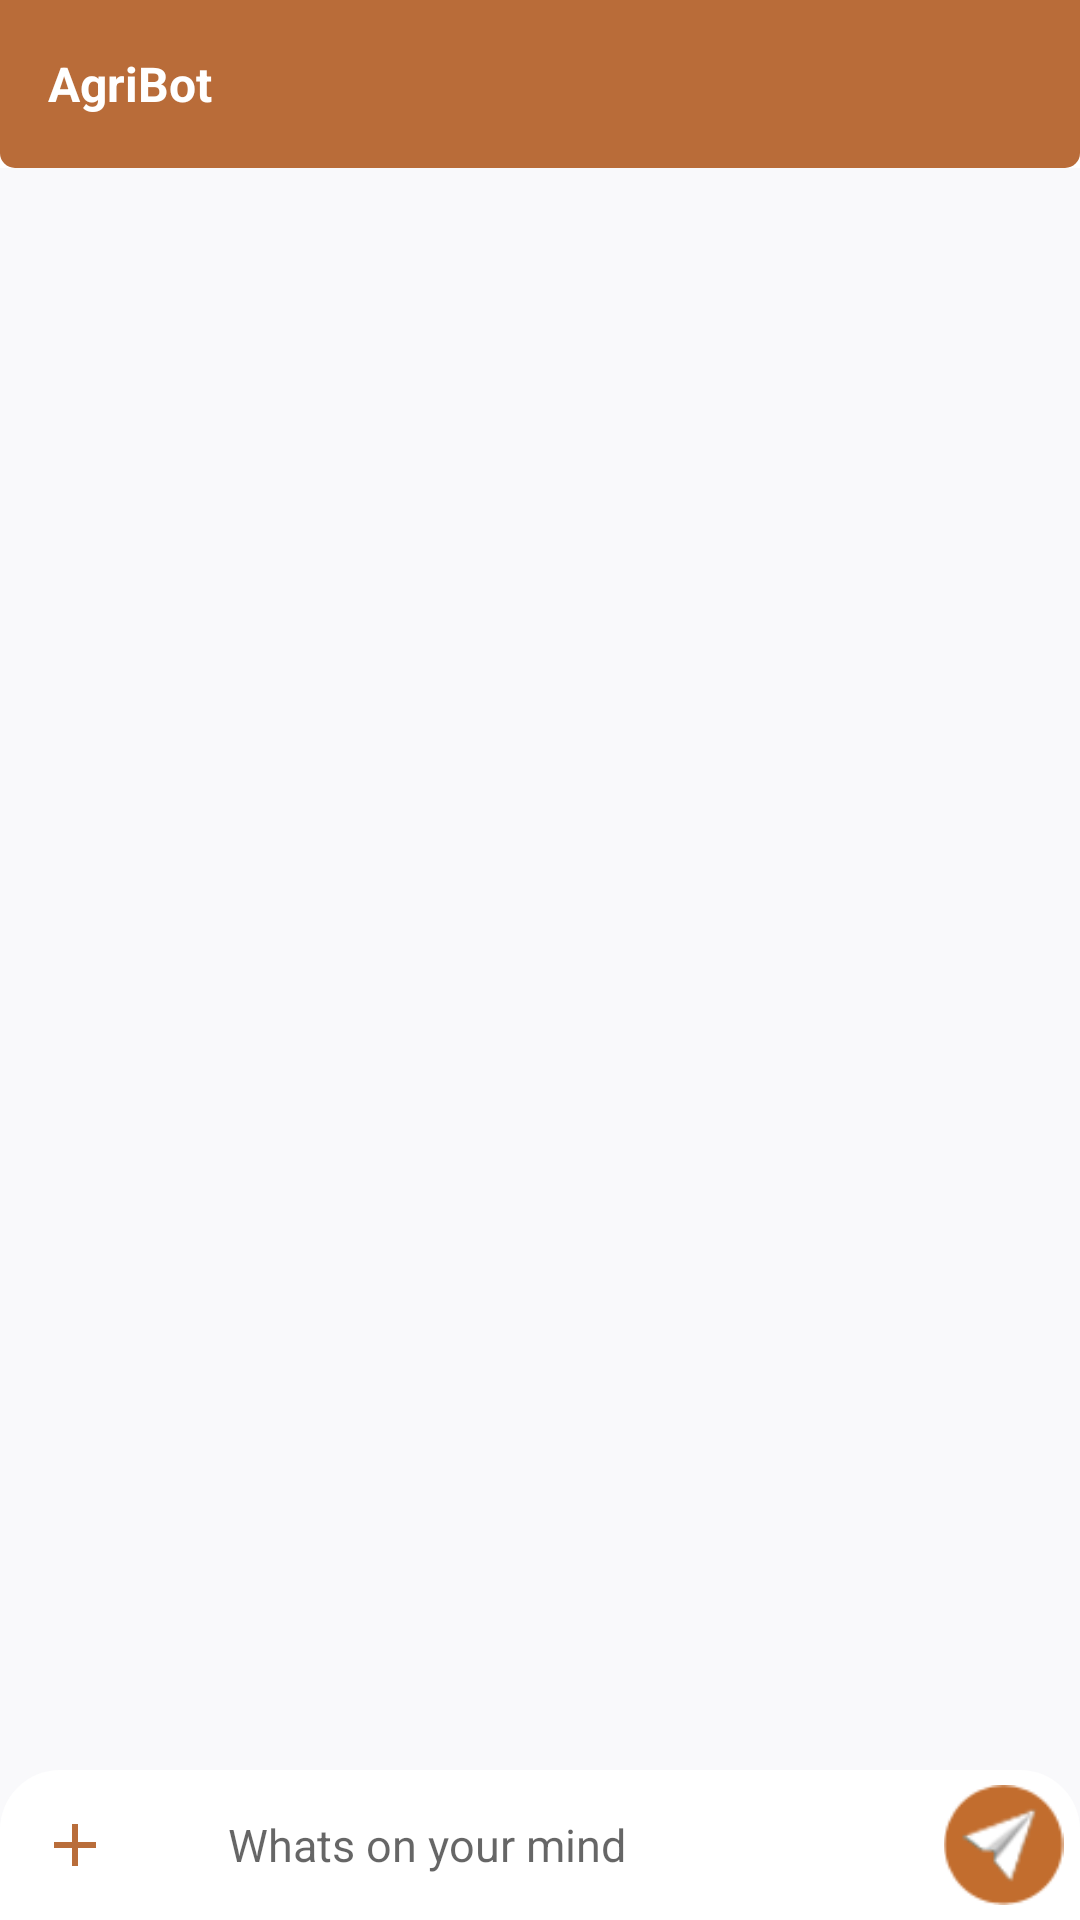

Screen size 1080px x 1920px. Icon name, then its center in pixels as (x,y):
add: (75,1845)
send: (1004,1845)
